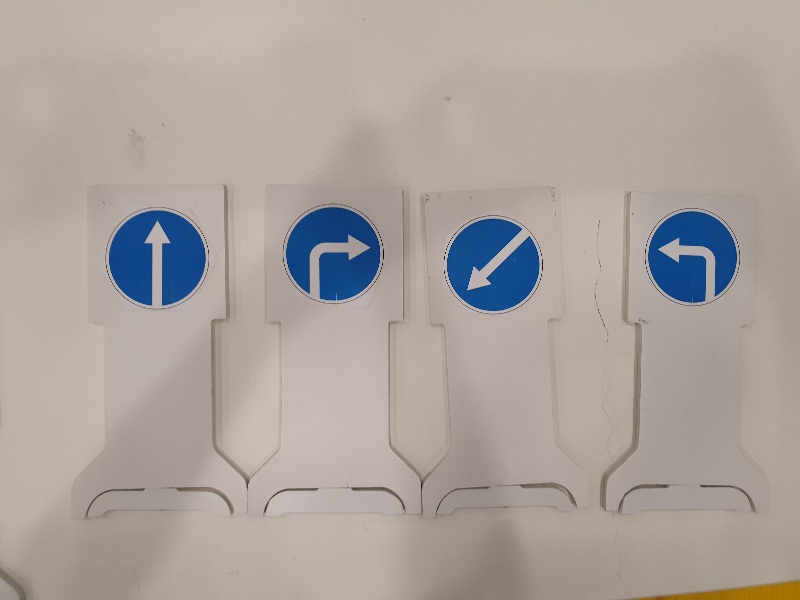Left: (635, 199, 754, 313)
Right: (275, 198, 394, 312)
forw: (99, 201, 218, 315)
prep: (435, 206, 554, 320)
